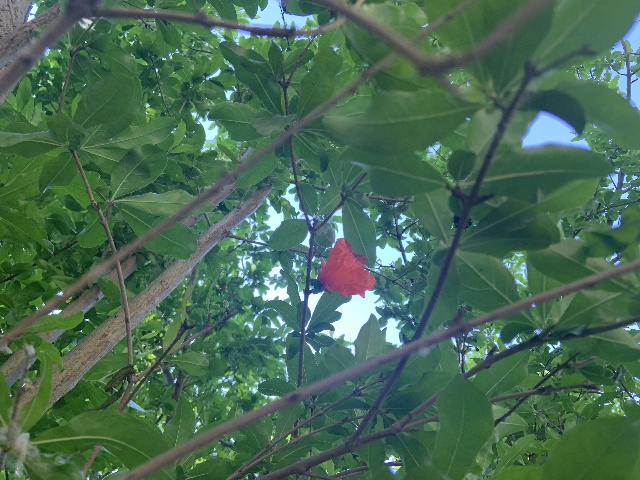flower: (317, 237, 375, 298)
